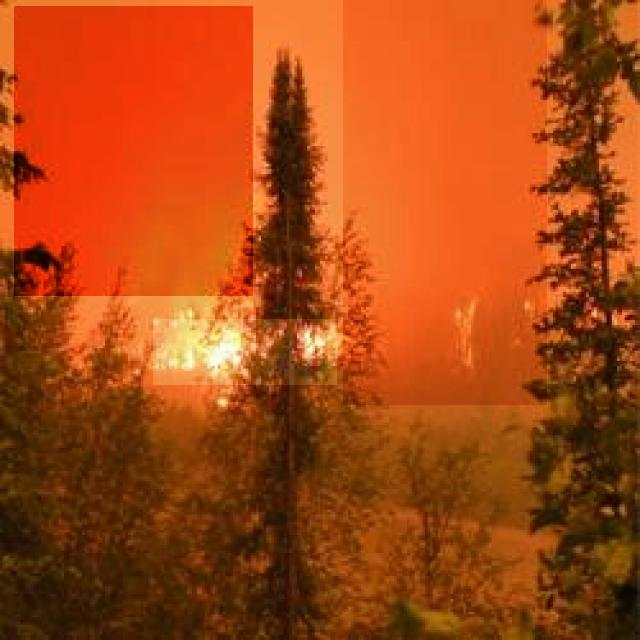Fire: (153, 319, 337, 385)
Smoke: (343, 0, 547, 405), (14, 6, 253, 296)
